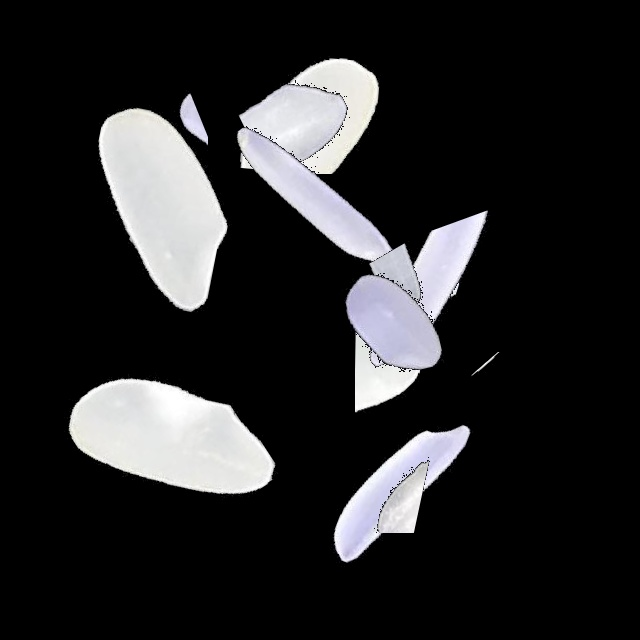Broken: (361, 188, 523, 438), (197, 33, 447, 188), (188, 20, 438, 174), (362, 175, 474, 425), (244, 425, 494, 533), (372, 108, 473, 358), (34, 388, 284, 482), (355, 246, 448, 496), (121, 20, 208, 270), (388, 352, 638, 434)
Full: (275, 365, 525, 615), (187, 71, 437, 321), (34, 82, 284, 332), (265, 196, 515, 446), (42, 318, 292, 568)
